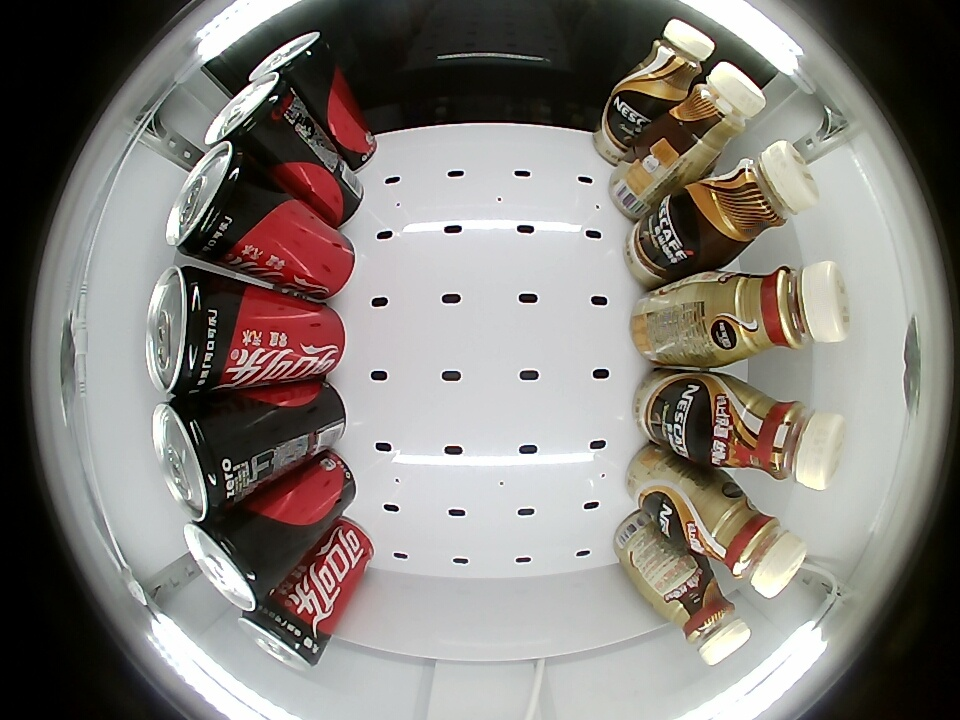kafei: (682, 141, 820, 265), (705, 376, 846, 488), (700, 263, 852, 364), (689, 482, 807, 598), (673, 61, 766, 167), (658, 563, 753, 666), (623, 19, 716, 104)
lingdukele: (153, 396, 252, 520), (166, 141, 262, 264), (145, 267, 236, 395), (183, 518, 269, 611), (205, 72, 294, 147), (239, 601, 328, 669), (249, 32, 336, 90)
